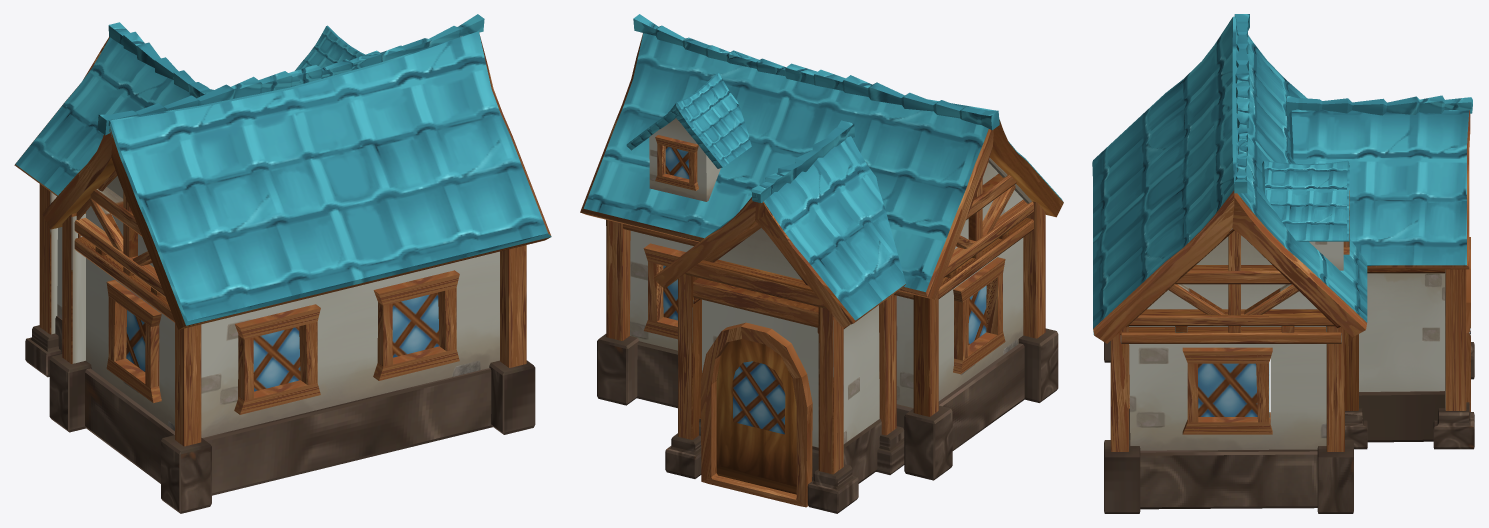
The model's file is houseNoSign.fbx.
3 renders of one model, left to right at view 1: azimuth 30°, elevation 25°; view 2: azimuth 150°, elevation 25°; view 3: azimuth 270°, elevation 25°, orthographic. The views are drawn at different scales.
Parts seen in each view (by area): view 1: house; view 2: house; view 3: house.
Part boxes in pixels (box(x1,y1,x2,y2)): house: box(14, 14, 551, 513); house: box(580, 14, 1063, 513); house: box(1092, 14, 1474, 513).
Bounding box in the file's own units: 764 × 686 × 695.
